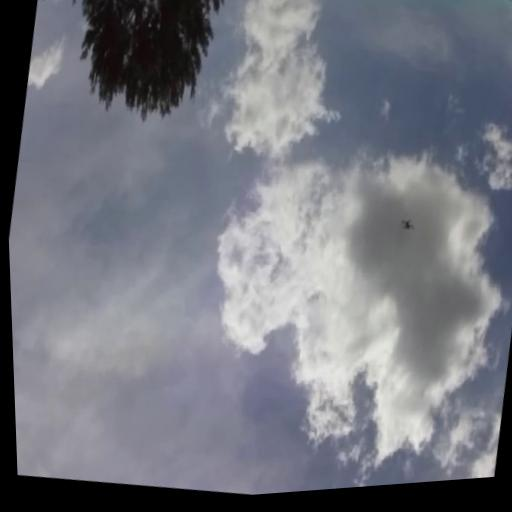drones: (396, 209, 418, 237)
